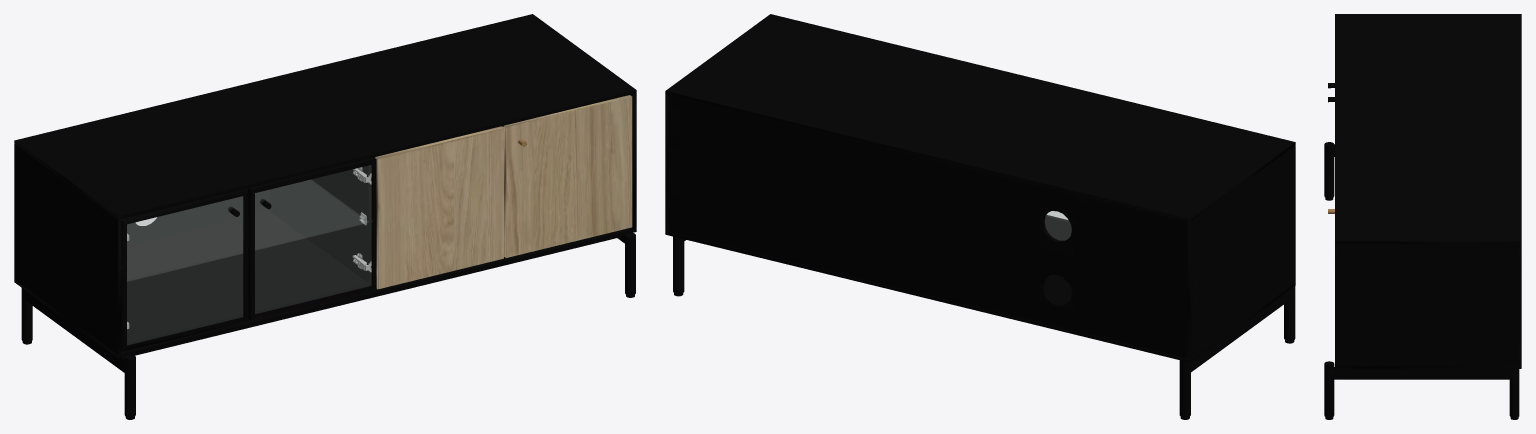
3 views of the same model, side by side, from view 1: azimuth 30°, elevation 25°; view 2: azimuth 150°, elevation 25°; view 3: azimuth 270°, elevation 25° (orthographic). The views are drawn at different scales.
Parts seen in each view (by area): view 1: Mesh_0, Mesh_1; view 2: Mesh_0, Mesh_1; view 3: Mesh_0.
Boxes of the visible parts, <box> form: Mesh_0: <box>14,14,636,419</box>; Mesh_1: <box>127,165,371,344</box>; Mesh_0: <box>665,14,1295,419</box>; Mesh_1: <box>1045,211,1071,240</box>; Mesh_0: <box>1324,14,1521,419</box>.
Size of the model in its own units: 1.21 by 0.4508 by 0.4448.
2 materials, 1 textured.
